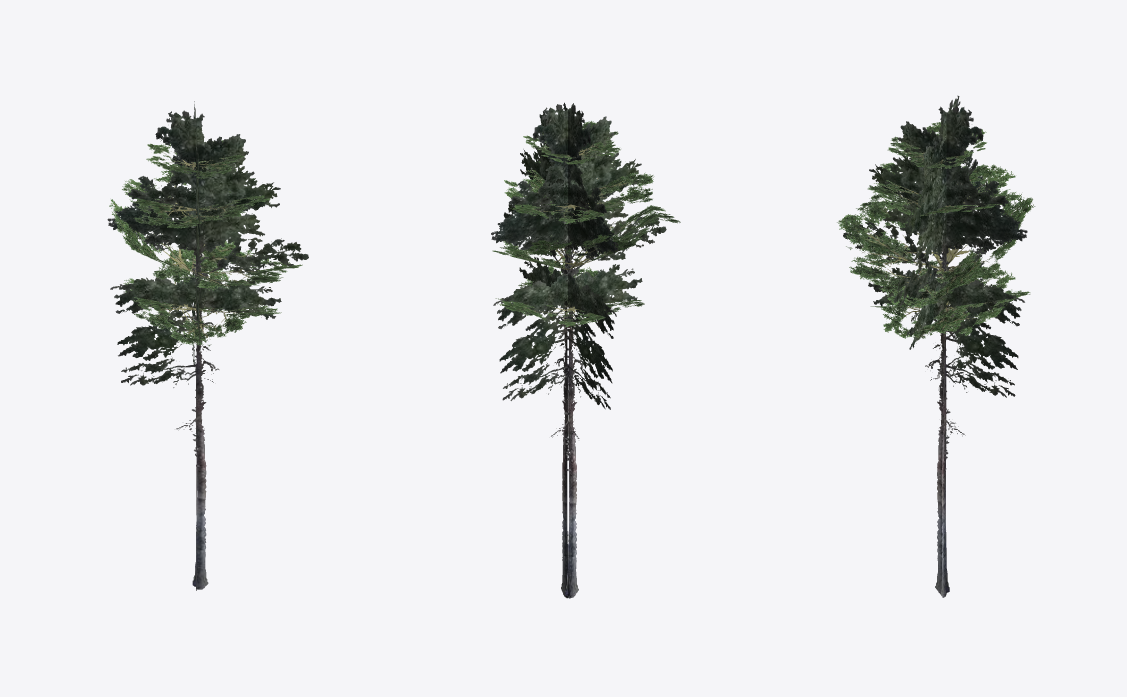
Rendered from bush.glb.
The picture shows the model from 3 angles, left to right: view 1: azimuth 30°, elevation 25°; view 2: azimuth 150°, elevation 25°; view 3: azimuth 270°, elevation 25°; orthographic projection. The views are drawn at different scales.
Visible parts, largest first — view 1: 05ade0e713892be558511d706fa6c547-no-bg-preview (carve.photos; view 2: 05ade0e713892be558511d706fa6c547-no-bg-preview (carve.photos; view 3: 05ade0e713892be558511d706fa6c547-no-bg-preview (carve.photos.
Boxes of the visible parts, x1,y1,x2,y2 form: 05ade0e713892be558511d706fa6c547-no-bg-preview (carve.photos: (107,101,308,590); 05ade0e713892be558511d706fa6c547-no-bg-preview (carve.photos: (491,102,680,598); 05ade0e713892be558511d706fa6c547-no-bg-preview (carve.photos: (837,95,1035,597).
Size of the model in its own units: 3.93 by 6.89 by 3.93.
Materials: 2 (2 with a texture image).
